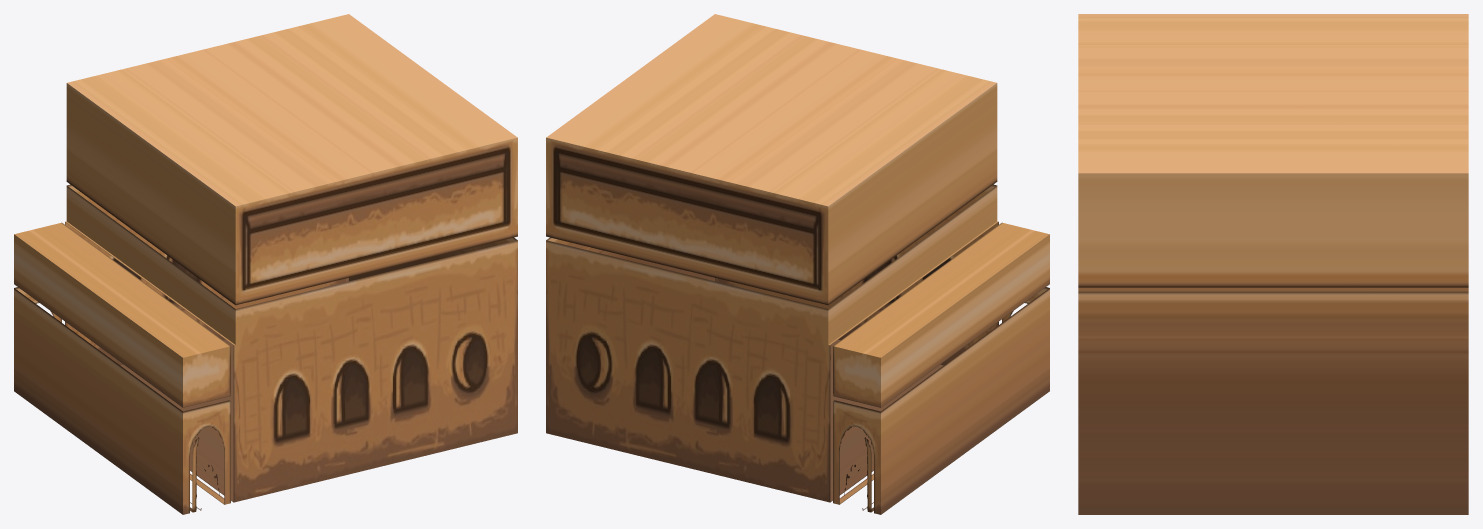
The model's file is house3.fbx.
3 renders of one model, left to right at view 1: azimuth 30°, elevation 25°; view 2: azimuth 150°, elevation 25°; view 3: azimuth 270°, elevation 25°, orthographic. The views are drawn at different scales.
Parts seen in each view (by area): view 1: Plane; view 2: Plane; view 3: Plane.
Boxes of the visible parts, bbox=[...] form: Plane: bbox=[14, 14, 517, 514]; Plane: bbox=[546, 14, 1049, 514]; Plane: bbox=[1078, 14, 1468, 514].
Size of the model in its own units: 56.09 by 47.34 by 49.
